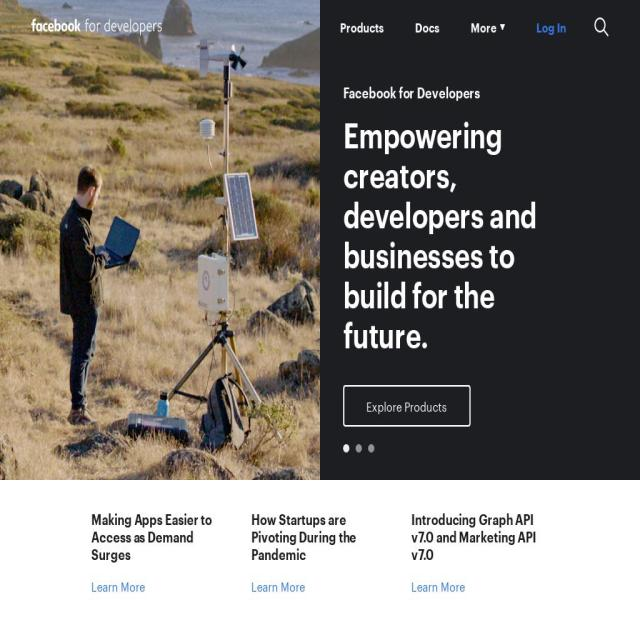button: (342, 385, 470, 427), (571, 345, 640, 387), (31, 18, 162, 36)
heading: (342, 115, 572, 356), (571, 115, 640, 316), (91, 510, 229, 563), (251, 510, 389, 563), (411, 510, 549, 563), (342, 84, 572, 103), (571, 84, 640, 103)
image: (0, 0, 320, 480), (320, 0, 640, 480), (31, 18, 162, 36), (594, 18, 609, 36), (342, 444, 350, 454), (355, 444, 362, 454), (368, 444, 374, 454), (500, 24, 505, 30)
link: (91, 578, 146, 594), (251, 578, 306, 594), (411, 578, 466, 594), (340, 18, 384, 35), (536, 18, 566, 35), (415, 18, 439, 35)
text: (471, 16, 497, 38)
